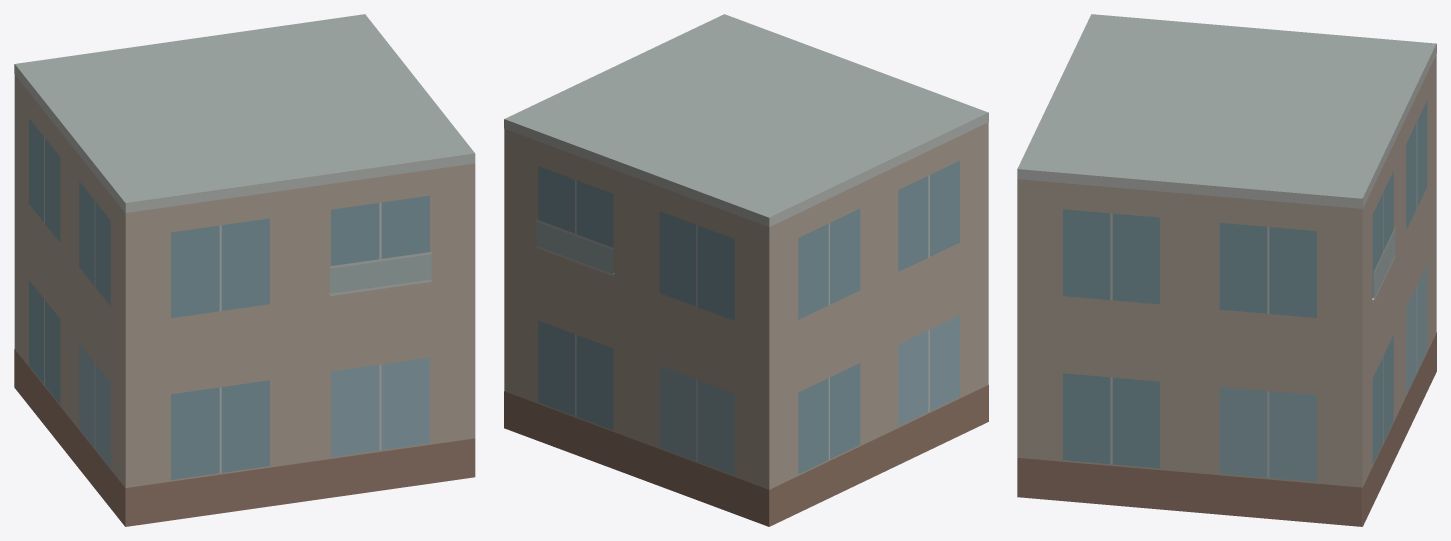
Rendered from survey-upis-32614773.glb.
3 views of the same model, side by side, from view 1: azimuth 30°, elevation 25°; view 2: azimuth 150°, elevation 25°; view 3: azimuth 270°, elevation 25° (orthographic). The views are drawn at different scales.
Visible parts, largest first — view 1: survey-upis-32614773.tmp; view 2: survey-upis-32614773.tmp; view 3: survey-upis-32614773.tmp.
Boxes of the visible parts, x1,y1,x2,y2 form: survey-upis-32614773.tmp: (14, 14, 475, 526); survey-upis-32614773.tmp: (504, 14, 988, 526); survey-upis-32614773.tmp: (1017, 14, 1436, 526).
Bounding box in the file's own units: 9.55 × 7.9 × 9.16.
